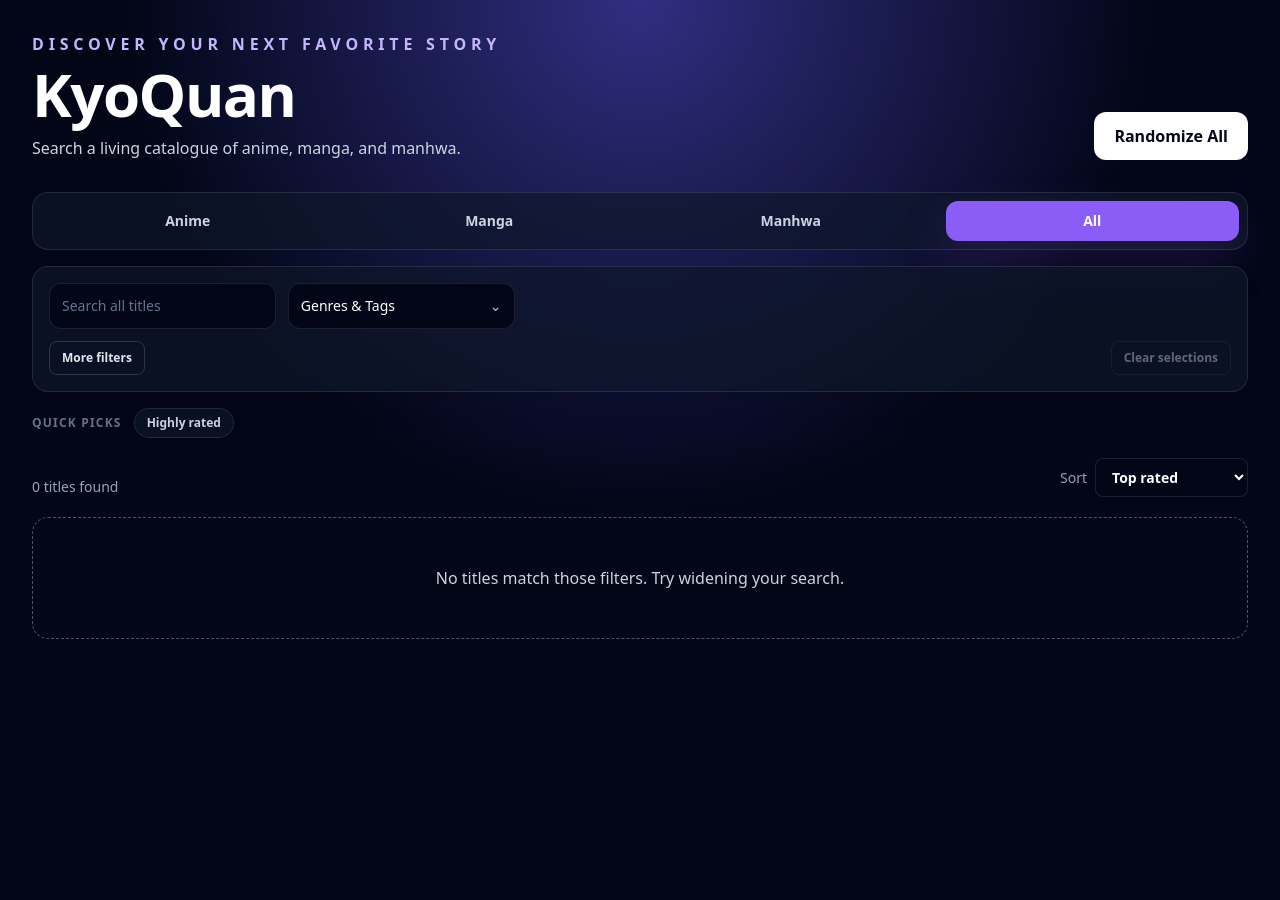
Test: catalogue filter integration › All content exposes only cross-catalogue filters
Click the button "More filters". click: point(97, 358)
box: top-left (49, 341), bottom-right (145, 375)
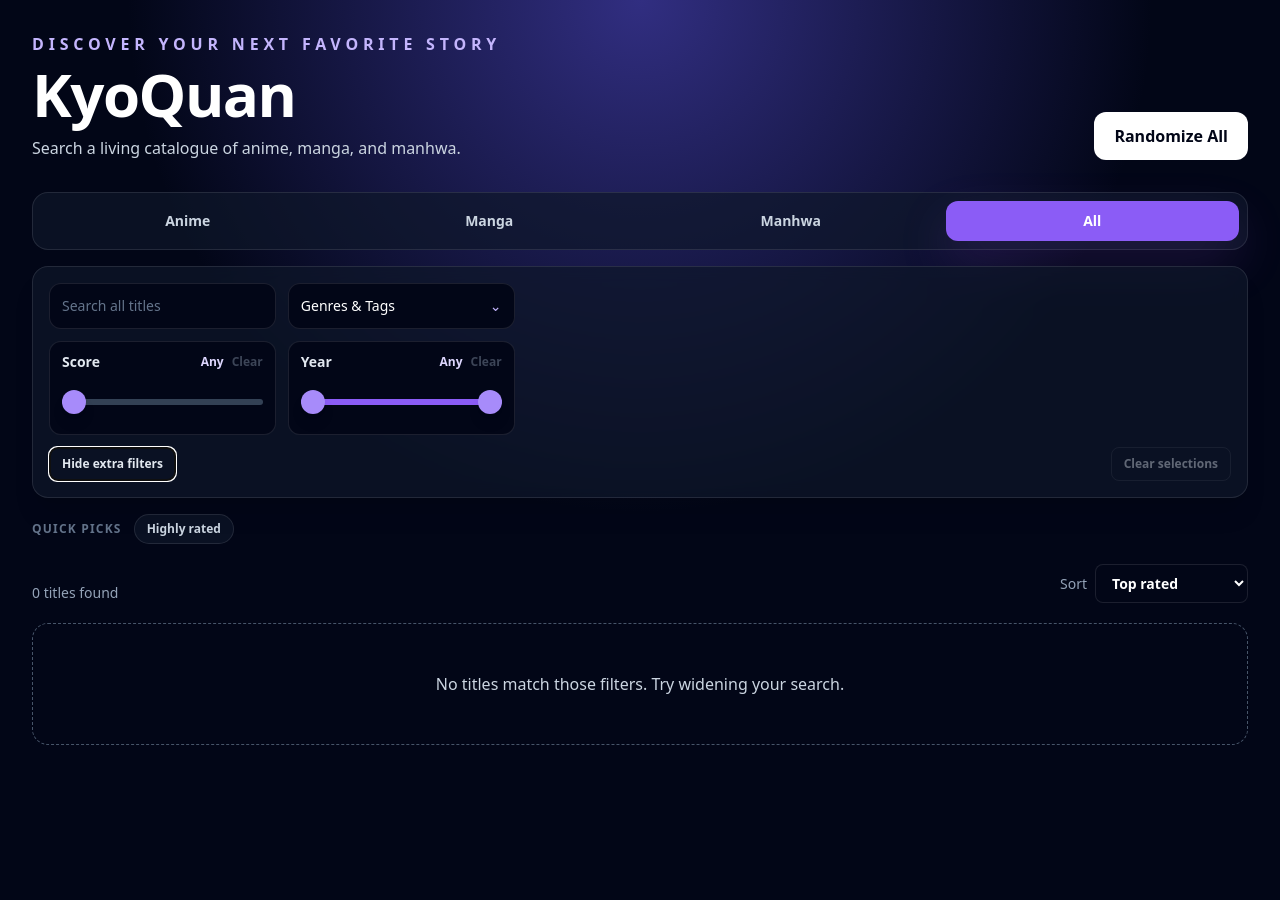
Now the slider named "Minimum score" is shown, box top-left (62, 380), bottom-right (263, 424)
Now the slider named "Minimum year" is shown, box top-left (301, 380), bottom-right (502, 424)
